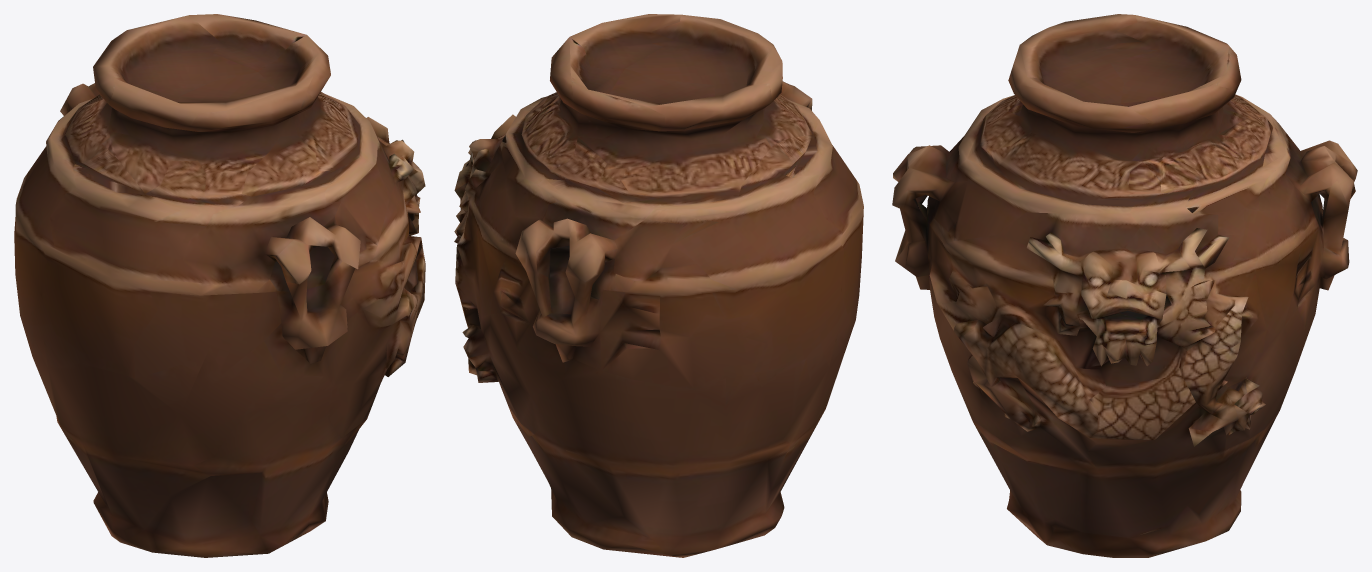
Rendered from jar.glb.
3 renders of one model, left to right at view 1: azimuth 30°, elevation 25°; view 2: azimuth 150°, elevation 25°; view 3: azimuth 270°, elevation 25°, orthographic.
Visible parts, largest first — view 1: tripo_node_d8f839d0-822a-4c5a-af51-580c45c97f7e; view 2: tripo_node_d8f839d0-822a-4c5a-af51-580c45c97f7e; view 3: tripo_node_d8f839d0-822a-4c5a-af51-580c45c97f7e.
Boxes of the visible parts, left/top/right/bottom form: tripo_node_d8f839d0-822a-4c5a-af51-580c45c97f7e: left=14, top=14, right=425, bottom=557; tripo_node_d8f839d0-822a-4c5a-af51-580c45c97f7e: left=454, top=14, right=863, bottom=557; tripo_node_d8f839d0-822a-4c5a-af51-580c45c97f7e: left=892, top=14, right=1357, bottom=557.
Bounding box in the file's own units: 0.387 × 0.4499 × 0.4211.
1 material, 1 textured.
